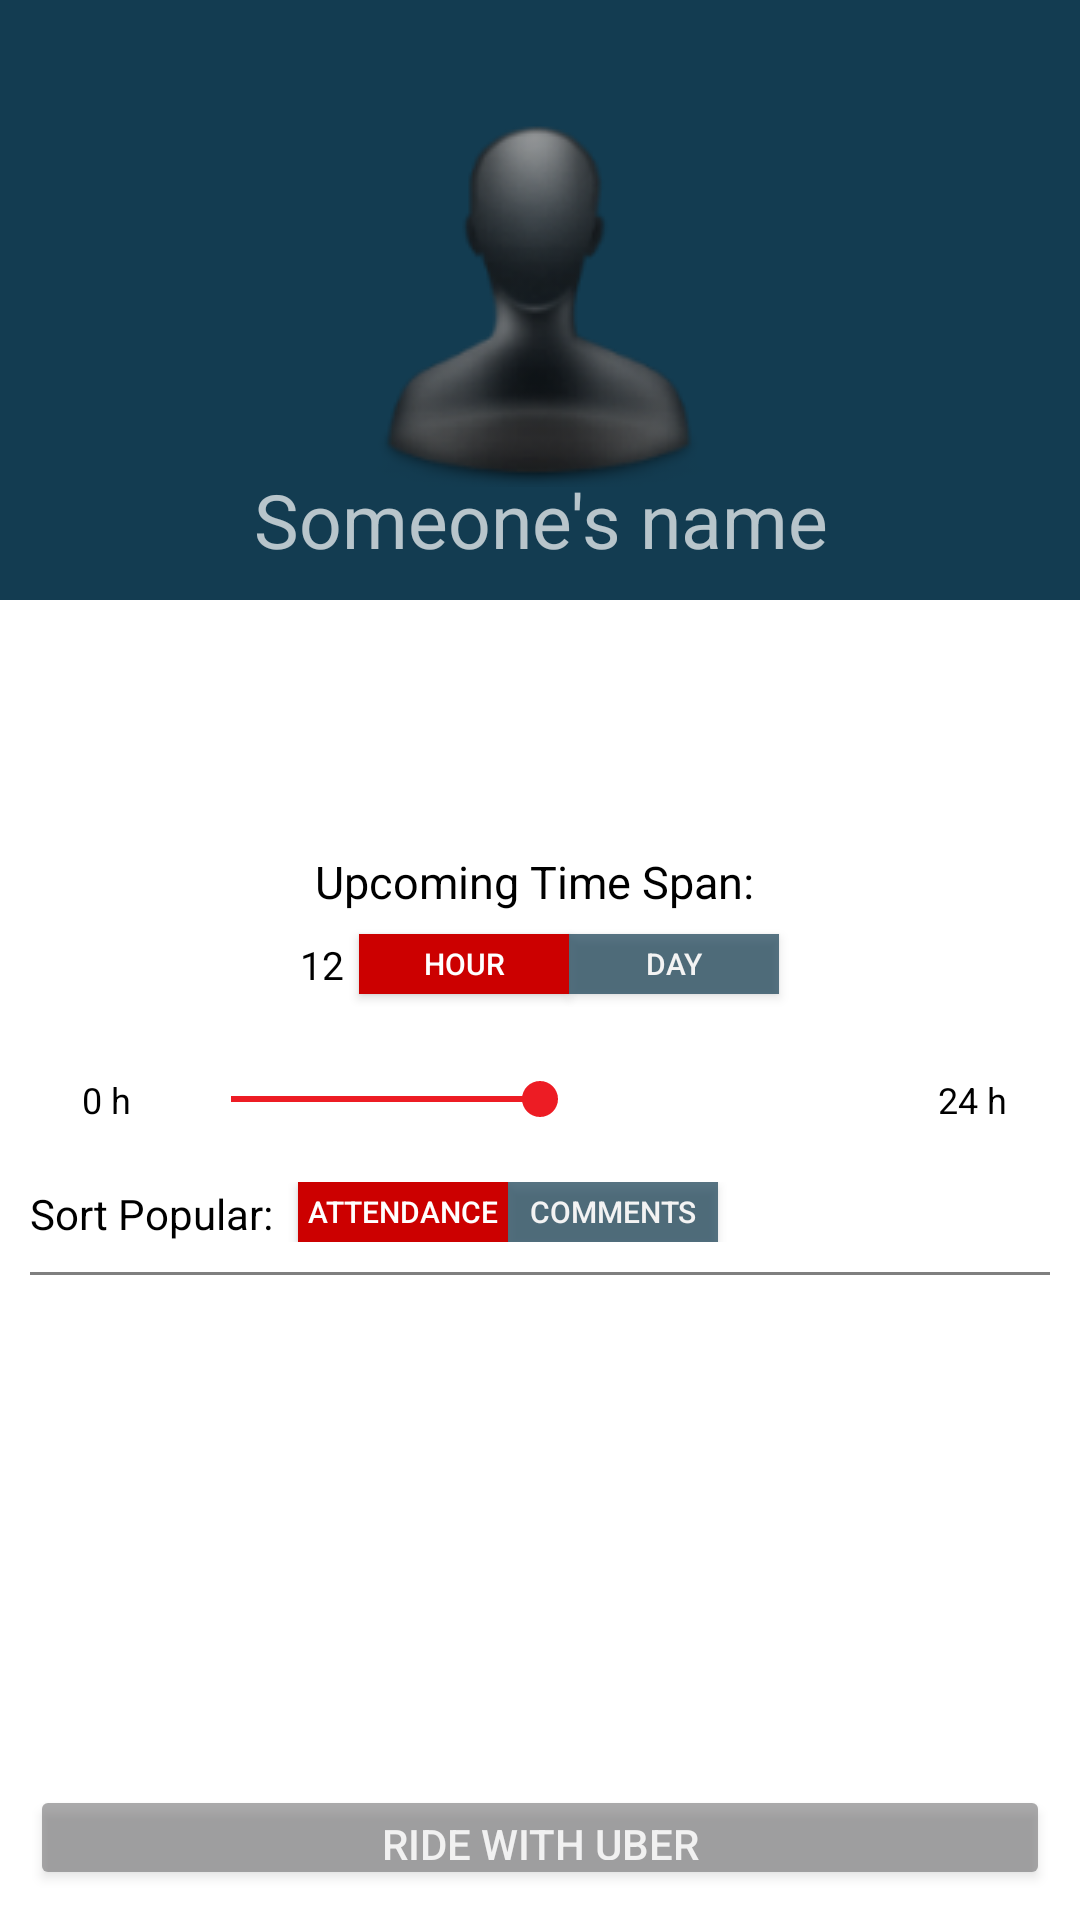

Icons on this 1080px x 1920px Android screen, each with the point to tap as point (x, y):
user: point (538, 302)
